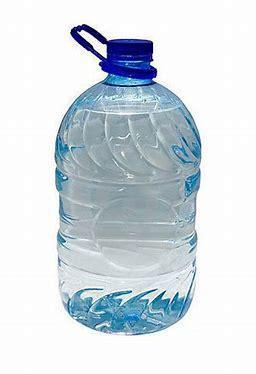plastic_bottle: (48, 21, 202, 337)
